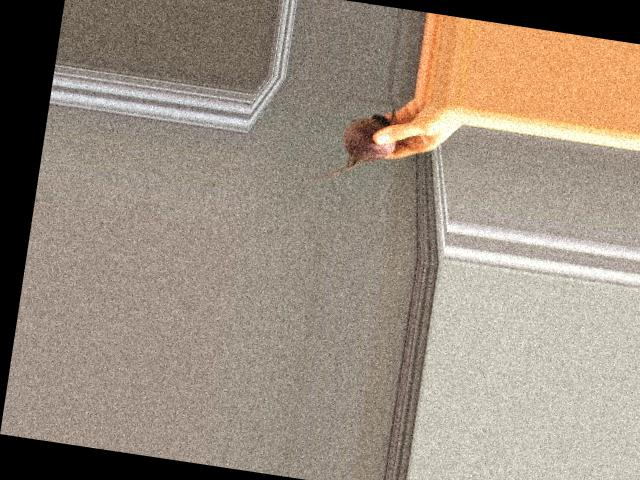beet: (309, 83, 402, 188)
